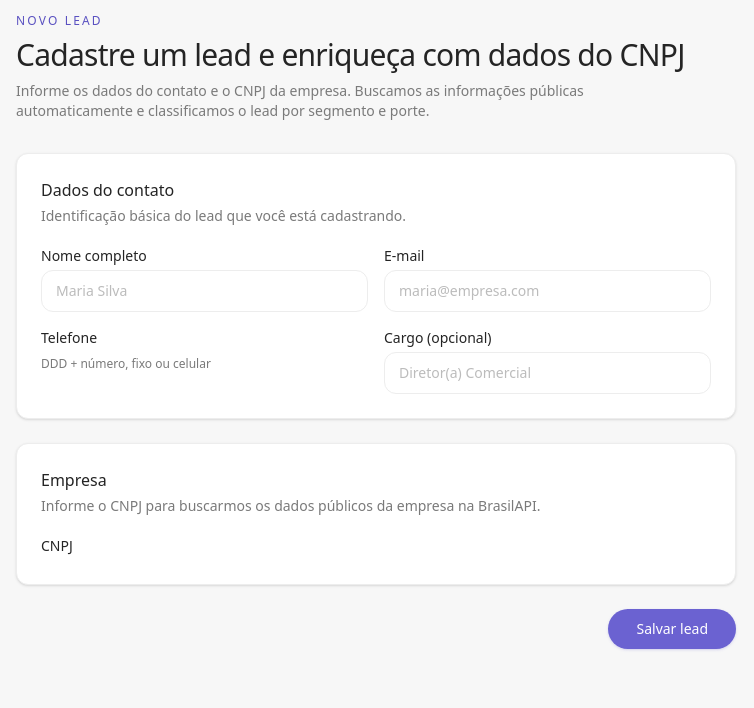
it: LeadSearchPage › exibe erros inline quando campos são inválidos
This screenshot has width=754, height=708.
Type "not-an-email" into the field labelled "E-mail" at {"x": 548, "y": 291}, box [384,270,711,312]
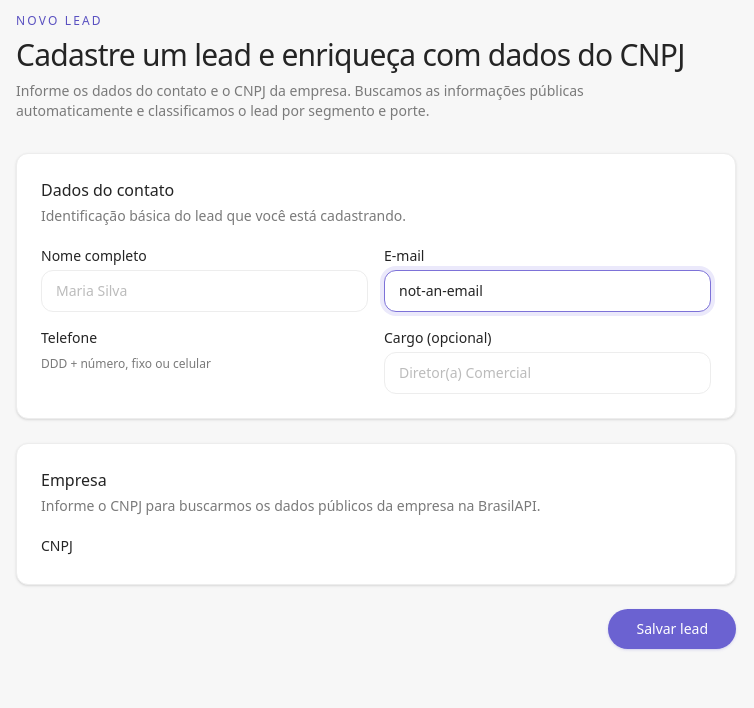
Click the button "Salvar lead" at {"x": 672, "y": 629}, box [608,609,736,649]
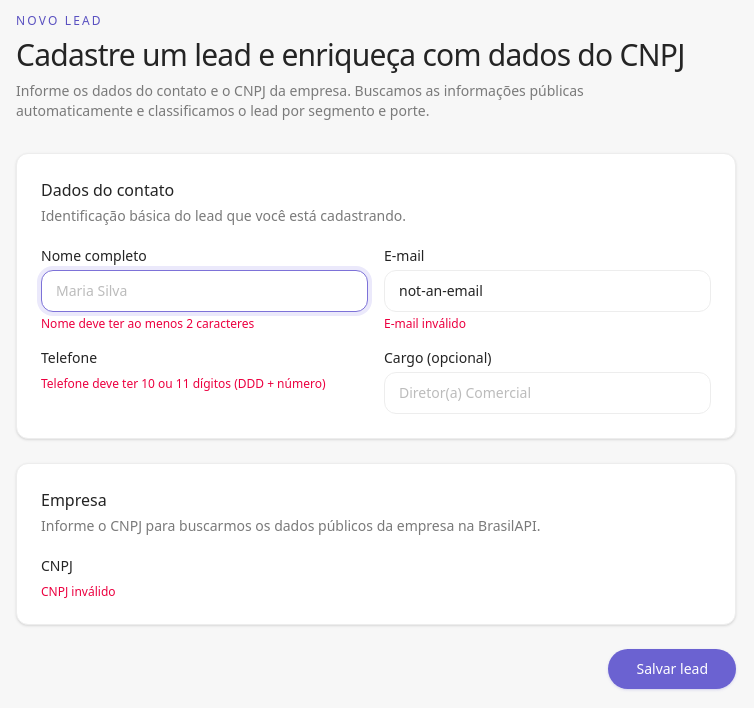
Expected: the message "Nome deve ter ao menos 2 caracteres" is shown, [41,315,254,332]
